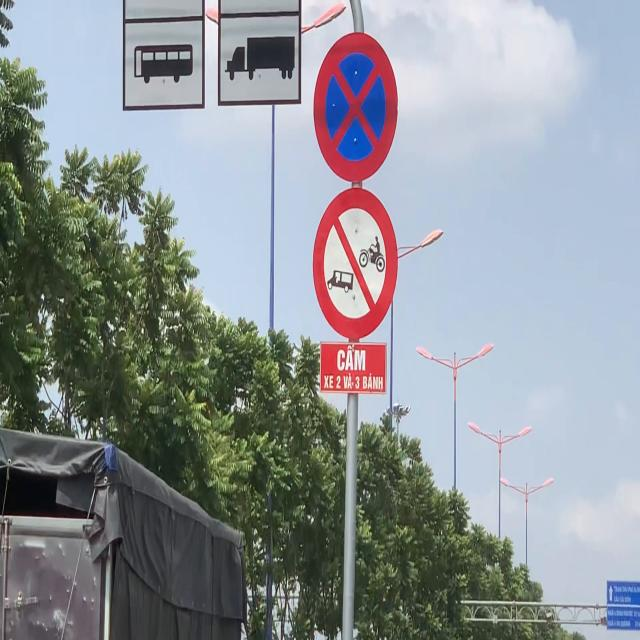Cam con lai: (312, 187, 399, 340)
Cam dung va do: (312, 28, 401, 186)
